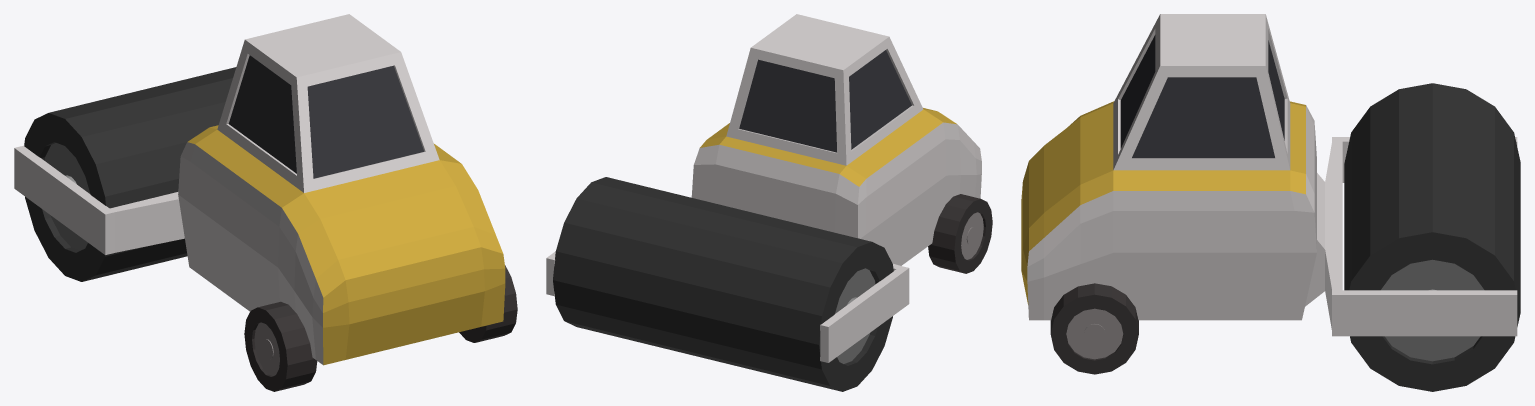
The model's file is Pursuer.fbx.
3 renders of one model, left to right at view 1: azimuth 30°, elevation 25°; view 2: azimuth 150°, elevation 25°; view 3: azimuth 270°, elevation 25°, orthographic. The views are drawn at different scales.
Parts seen in each view (by area): view 1: Pursuer_Body, Pursuer_FWheel, Pursuer_RWheels; view 2: Pursuer_Body, Pursuer_FWheel, Pursuer_RWheels; view 3: Pursuer_Body, Pursuer_FWheel, Pursuer_RWheels.
Part boxes in pixels (bbox=[...]): Pursuer_Body: bbox=[14, 14, 505, 365]; Pursuer_FWheel: bbox=[24, 67, 236, 281]; Pursuer_RWheels: bbox=[244, 265, 517, 391]; Pursuer_Body: bbox=[546, 14, 981, 362]; Pursuer_FWheel: bbox=[553, 177, 893, 391]; Pursuer_RWheels: bbox=[928, 194, 992, 273]; Pursuer_Body: bbox=[1021, 14, 1517, 336]; Pursuer_FWheel: bbox=[1344, 83, 1520, 391]; Pursuer_RWheels: bbox=[1050, 283, 1138, 374].
Size of the model in its own units: 2.55 by 2.08 by 3.4.
